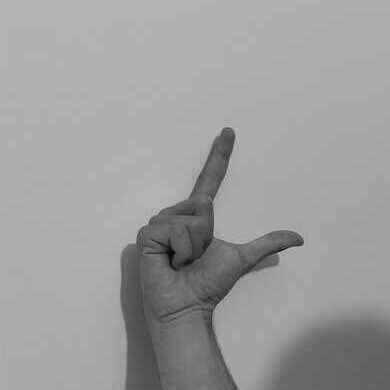L: (136, 124, 304, 320)
